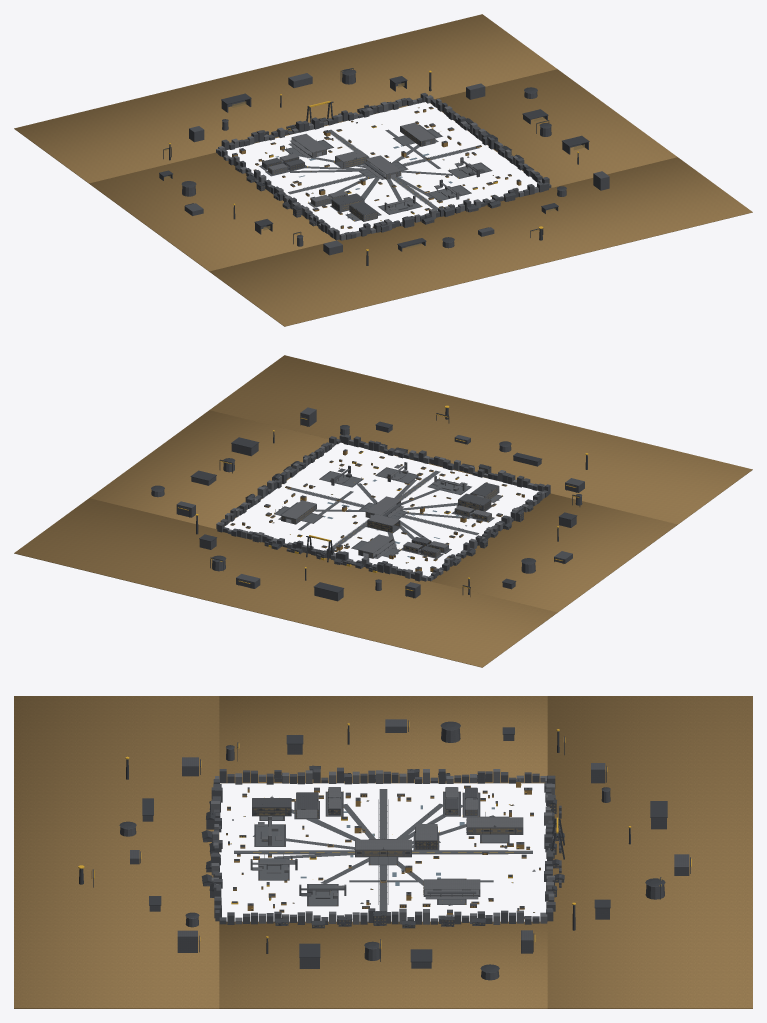
The model's file is souko-lod0.glb.
The picture shows the model from 3 angles, top to bottom: view 1: azimuth 30°, elevation 25°; view 2: azimuth 150°, elevation 25°; view 3: azimuth 270°, elevation 25°; orthographic projection. The views are drawn at different scales.
Visible parts, largest first — view 1: HB_souko_LOD0_terrain, HB_souko_LOD0_wall_alt, HB_souko_LOD0_wall, HB_souko_LOD0_road, HB_souko_LOD0_trim, HB_souko_LOD0_obstacle, HB_souko_LOD0_glass; view 2: HB_souko_LOD0_terrain, HB_souko_LOD0_wall_alt, HB_souko_LOD0_wall, HB_souko_LOD0_trim, HB_souko_LOD0_road, HB_souko_LOD0_obstacle; view 3: HB_souko_LOD0_terrain, HB_souko_LOD0_wall_alt, HB_souko_LOD0_wall, HB_souko_LOD0_road, HB_souko_LOD0_trim, HB_souko_LOD0_obstacle, HB_souko_LOD0_glass.
Boxes of the visible parts, bbox=[...] form: HB_souko_LOD0_terrain: bbox=[14, 14, 752, 326]; HB_souko_LOD0_wall_alt: bbox=[159, 73, 609, 255]; HB_souko_LOD0_wall: bbox=[216, 95, 541, 240]; HB_souko_LOD0_road: bbox=[260, 107, 493, 221]; HB_souko_LOD0_trim: bbox=[159, 68, 589, 265]; HB_souko_LOD0_obstacle: bbox=[164, 69, 549, 234]; HB_souko_LOD0_glass: bbox=[165, 82, 584, 248]; HB_souko_LOD0_terrain: bbox=[14, 355, 752, 667]; HB_souko_LOD0_wall_alt: bbox=[151, 407, 584, 601]; HB_souko_LOD0_wall: bbox=[216, 439, 545, 581]; HB_souko_LOD0_trim: bbox=[151, 408, 587, 598]; HB_souko_LOD0_road: bbox=[272, 468, 502, 563]; HB_souko_LOD0_obstacle: bbox=[178, 414, 579, 590]; HB_souko_LOD0_terrain: bbox=[14, 696, 752, 1008]; HB_souko_LOD0_wall_alt: bbox=[120, 719, 689, 980]; HB_souko_LOD0_wall: bbox=[211, 769, 554, 924]; HB_souko_LOD0_road: bbox=[230, 789, 535, 912]; HB_souko_LOD0_trim: bbox=[79, 720, 690, 972]; HB_souko_LOD0_obstacle: bbox=[91, 722, 689, 948]; HB_souko_LOD0_glass: bbox=[248, 744, 650, 926].
Size of the model in its own units: 756 by 32 by 756.
Materials: 10 (8 with a texture image).
